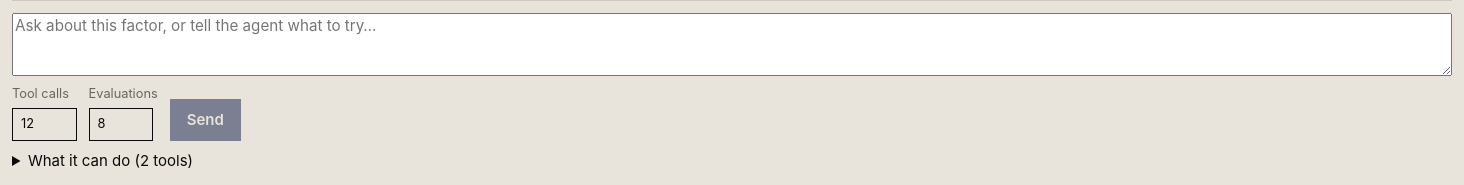
Scenario: Composer › refuses to send an empty message or a second one while the first is running
Expected: the button with test id "agent-send" is disabled, [170, 99, 241, 141]
Step 1. Type "hello" into the text box with test id "agent-input" → (732, 44), box [12, 13, 1452, 76]
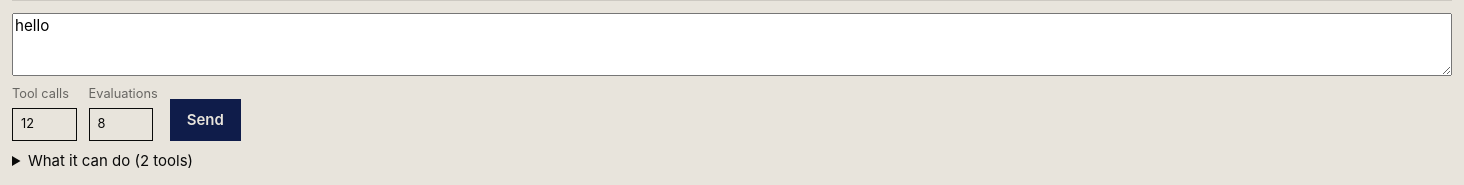
Expected: the button with test id "agent-send" is enabled, [170, 99, 241, 141]
